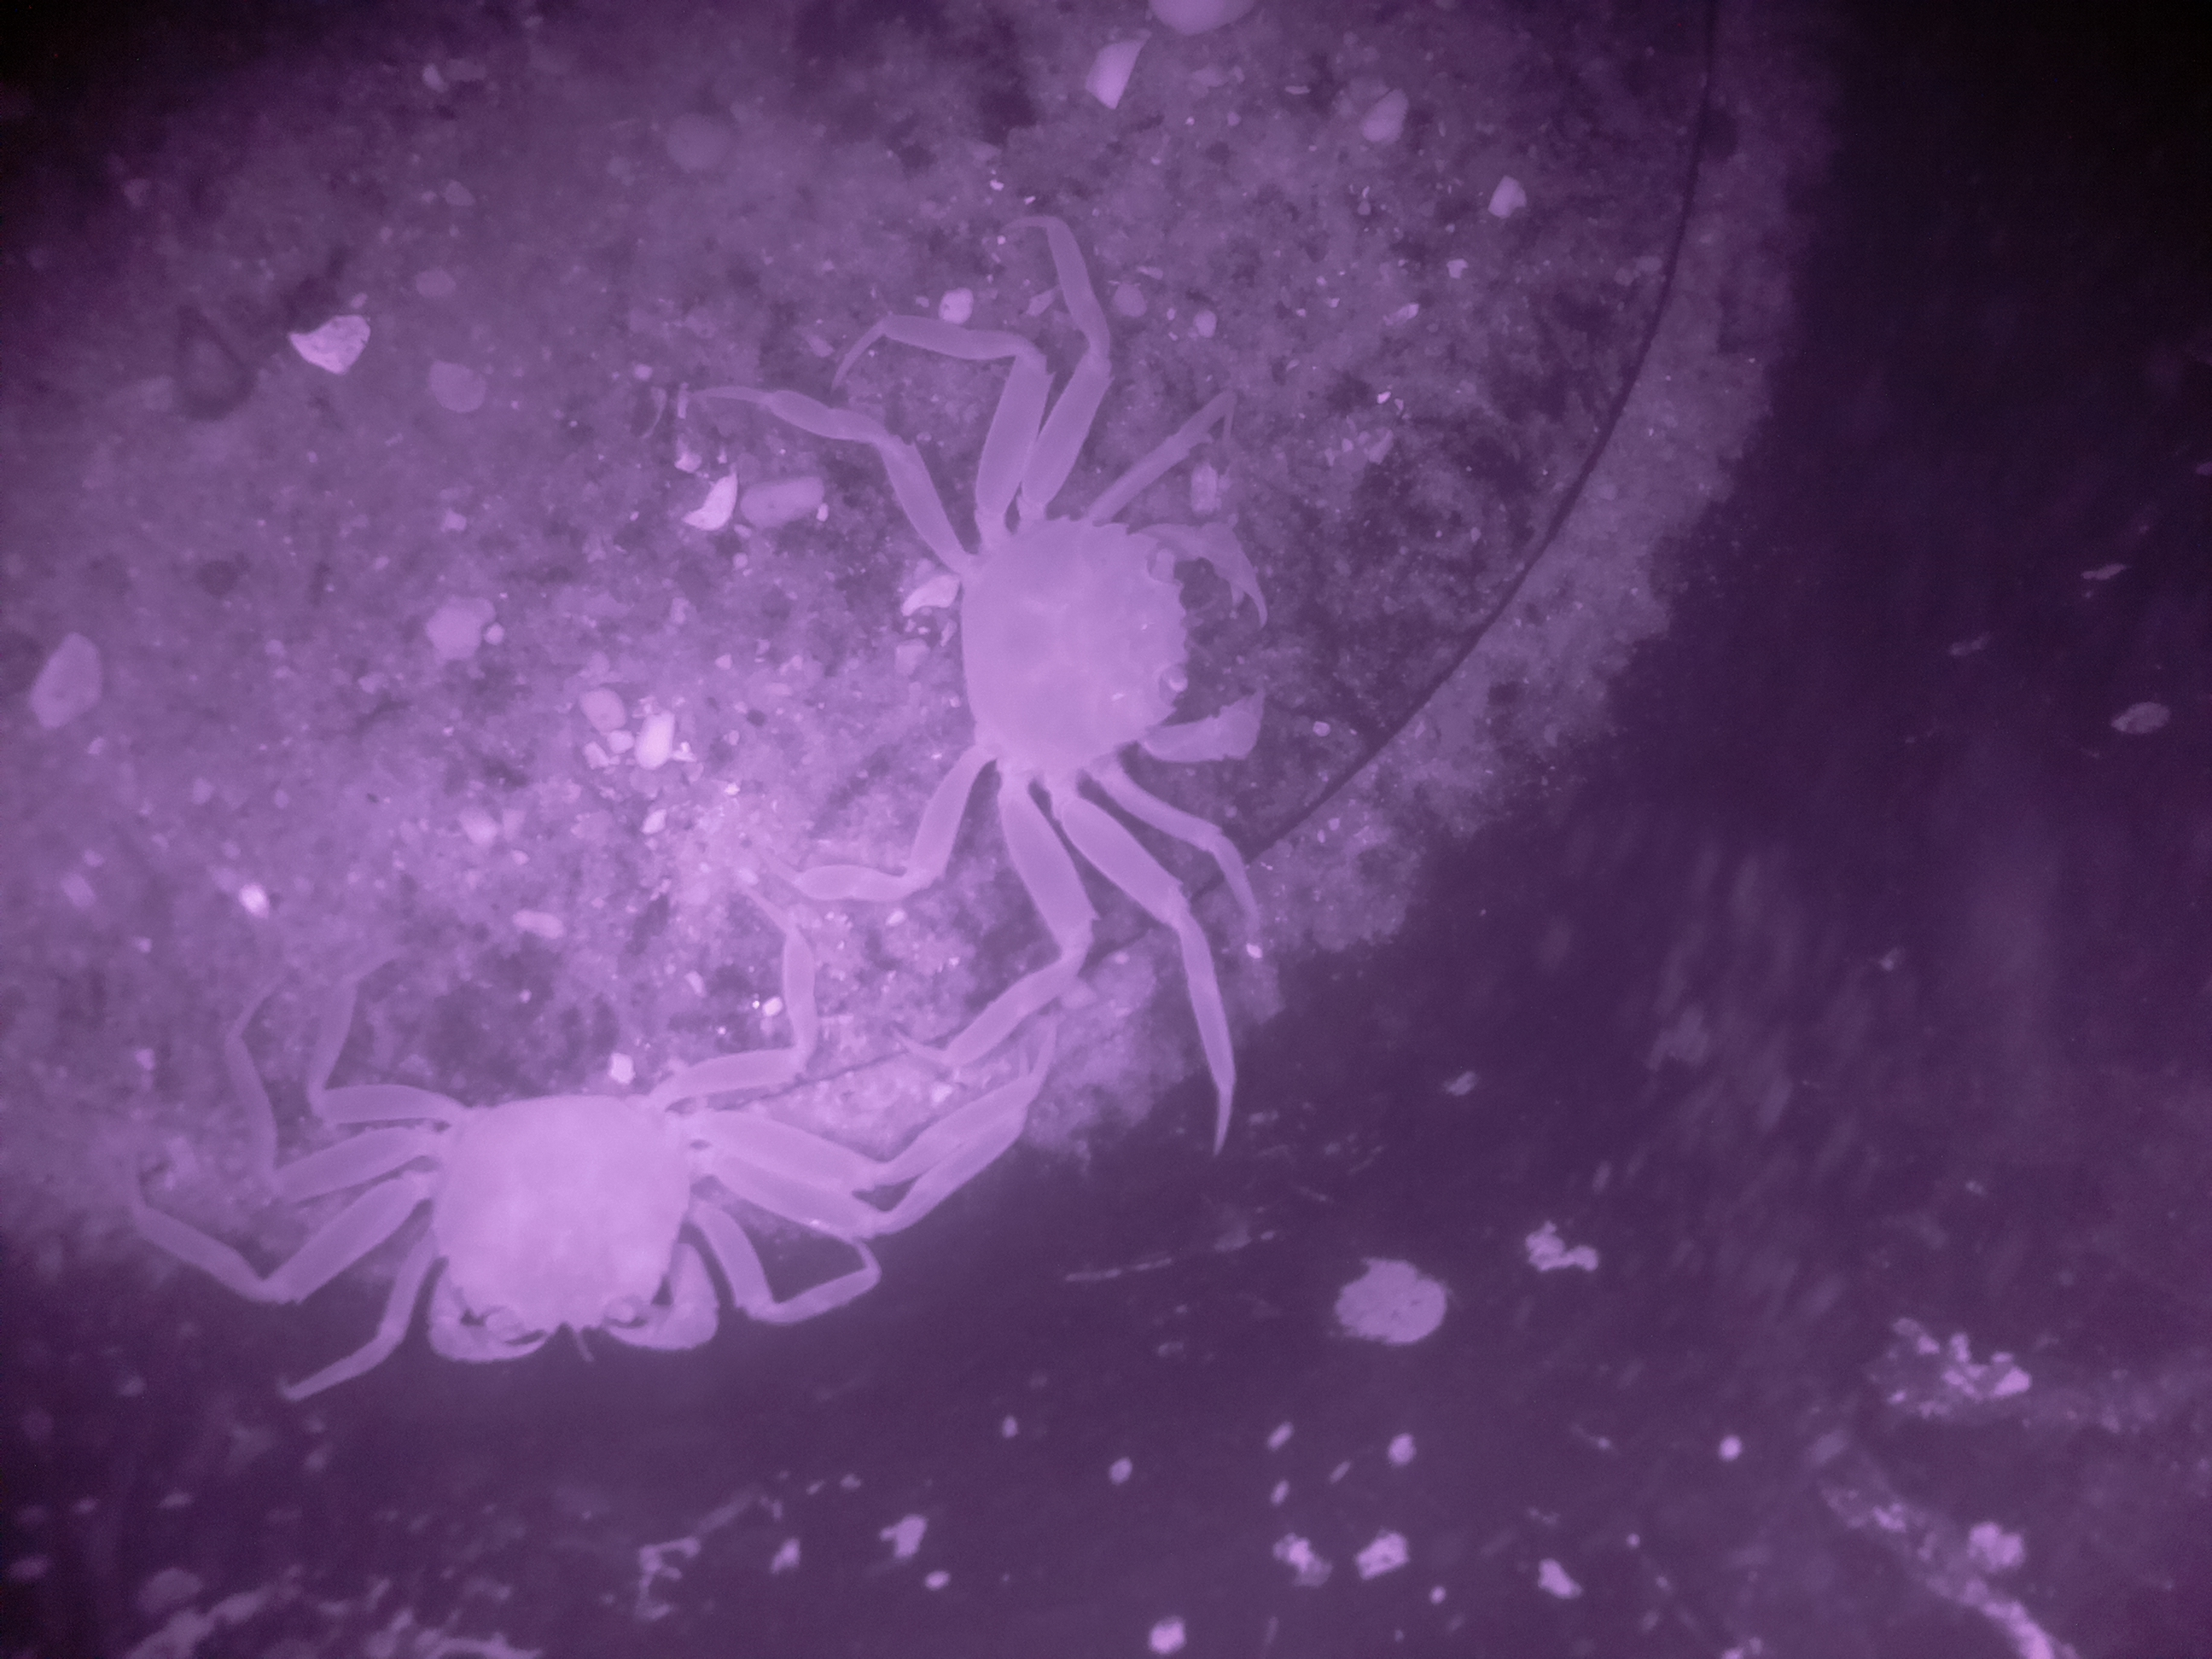Crab: (273, 988, 834, 1408), (803, 469, 1369, 852)
